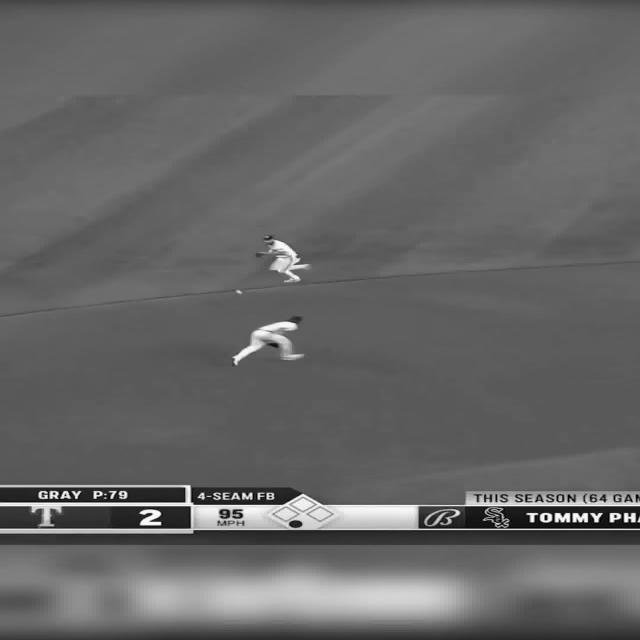baseball: (234, 290, 242, 294)
shoe: (280, 353, 304, 361), (283, 277, 301, 283), (231, 356, 239, 366)
